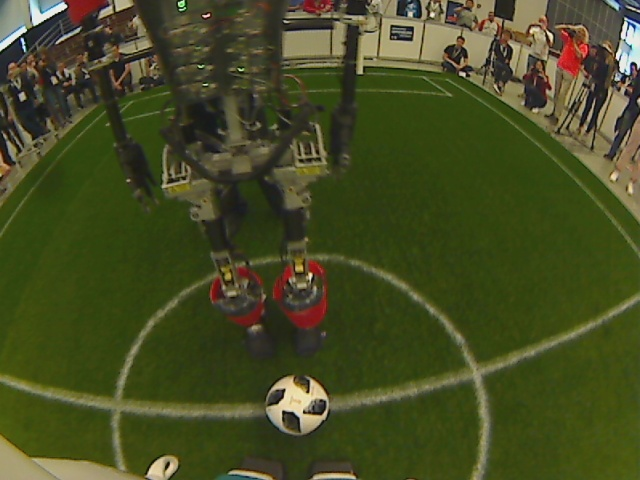ball: (263, 371, 333, 440)
